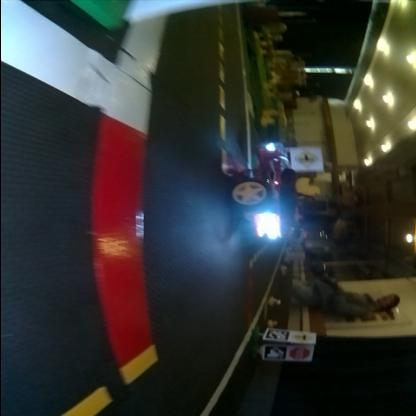Duckie: (297, 178, 319, 197), (268, 298, 281, 306), (260, 118, 273, 126), (267, 320, 277, 326)
Duckiebot: (228, 144, 289, 240)
Intersection sign: (290, 332, 312, 343)
QR code: (262, 345, 284, 361), (266, 330, 288, 342)
Stop sign: (288, 346, 312, 362)
